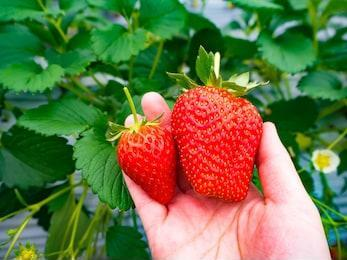Fresa: (167, 81, 265, 209), (114, 118, 180, 209)
